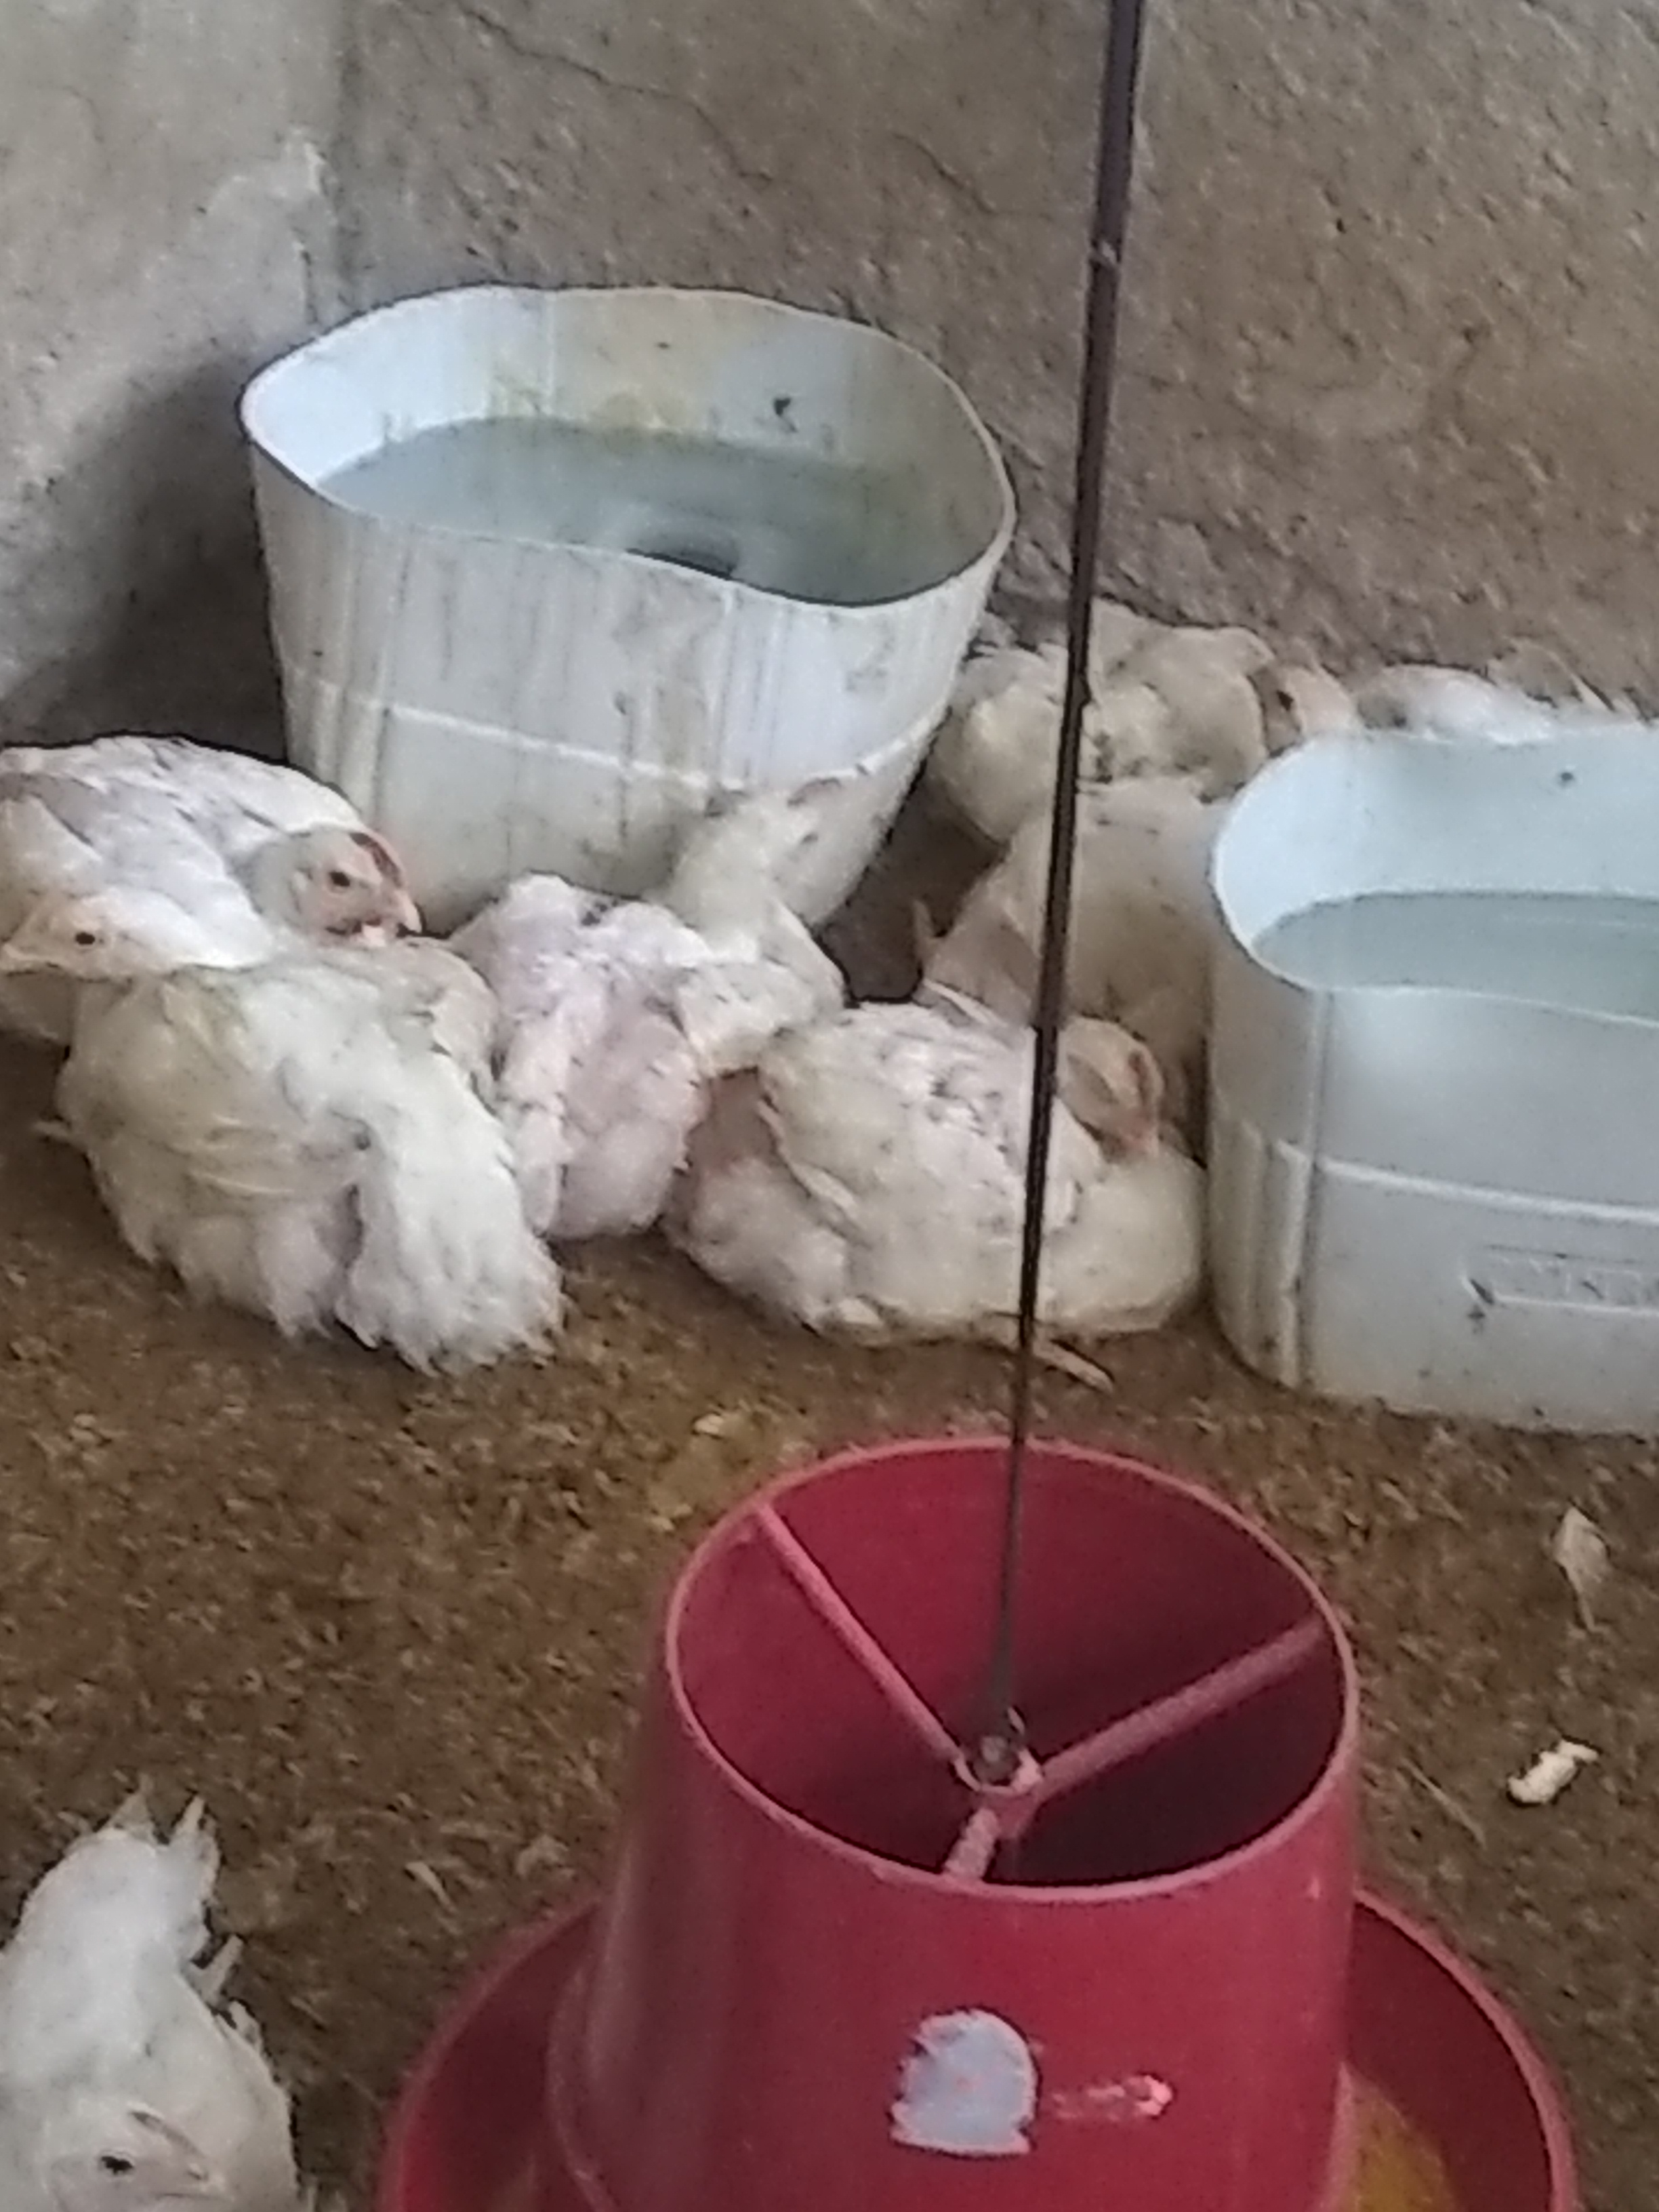Pollos: (33, 894, 471, 1362), (762, 989, 1178, 1397), (0, 1824, 369, 2212), (0, 723, 446, 921), (641, 712, 903, 995), (1244, 639, 1366, 773)
